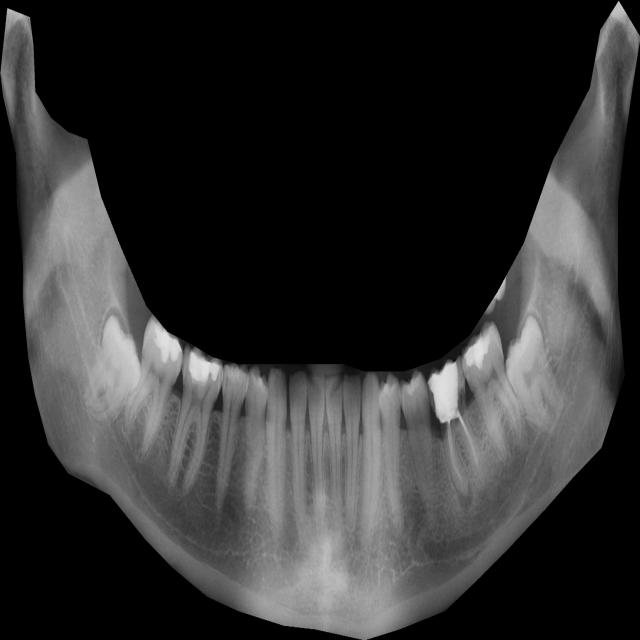mandibula: (0, 1, 640, 640)
